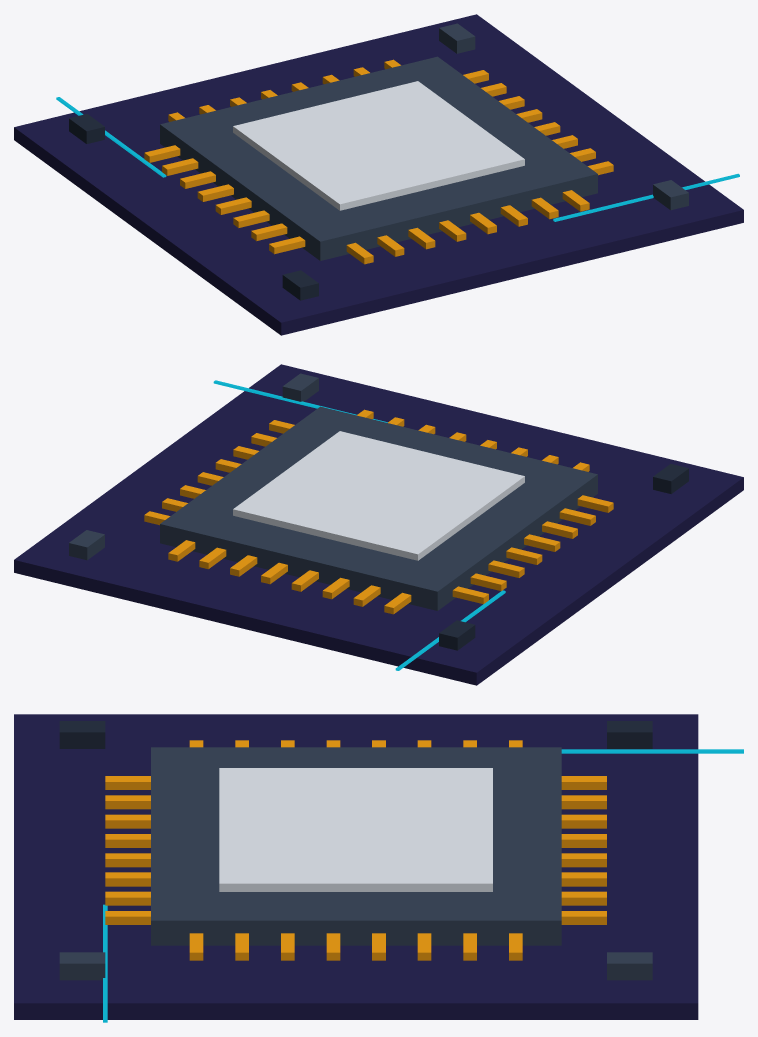
Rendered from microchip.gltf.
The picture shows the model from 3 angles, top to bottom: view 1: azimuth 30°, elevation 25°; view 2: azimuth 150°, elevation 25°; view 3: azimuth 270°, elevation 25°; orthographic projection. The views are drawn at different scales.
Visible parts, largest first — view 1: Microchip; view 2: Microchip; view 3: Microchip.
Boxes of the visible parts, x1=… form: Microchip: x1=14, y1=14, x2=743, y2=335; Microchip: x1=14, y1=364, x2=743, y2=685; Microchip: x1=14, y1=714, x2=743, y2=1022.
Bounding box in the file's own units: 3.2 × 0.24 × 3.2.
